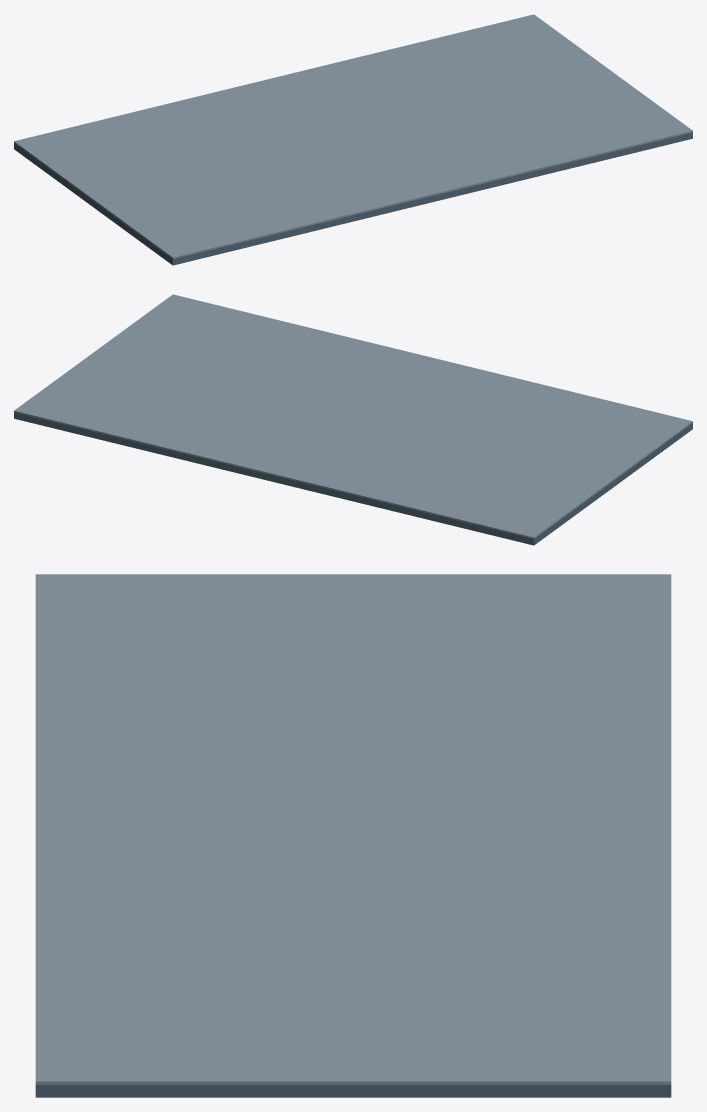
Rendered from TS-632.00.000-34-plita-dielektricheskaya-360x680.glb.
3 renders of one model, top to bottom at view 1: azimuth 30°, elevation 25°; view 2: azimuth 150°, elevation 25°; view 3: azimuth 270°, elevation 25°, orthographic. The views are drawn at different scales.
Parts seen in each view (by area): view 1: prokladka, plita; view 2: prokladka, plita; view 3: prokladka, plita.
Part boxes in pixels (bbox=[...]): prokladka: bbox=[14, 14, 692, 258]; plita: bbox=[14, 132, 692, 265]; prokladka: bbox=[14, 294, 692, 538]; plita: bbox=[14, 412, 692, 545]; prokladka: bbox=[35, 574, 671, 1084]; plita: bbox=[35, 1085, 671, 1097].
Size of the model in its own units: 680 by 10 by 360.
